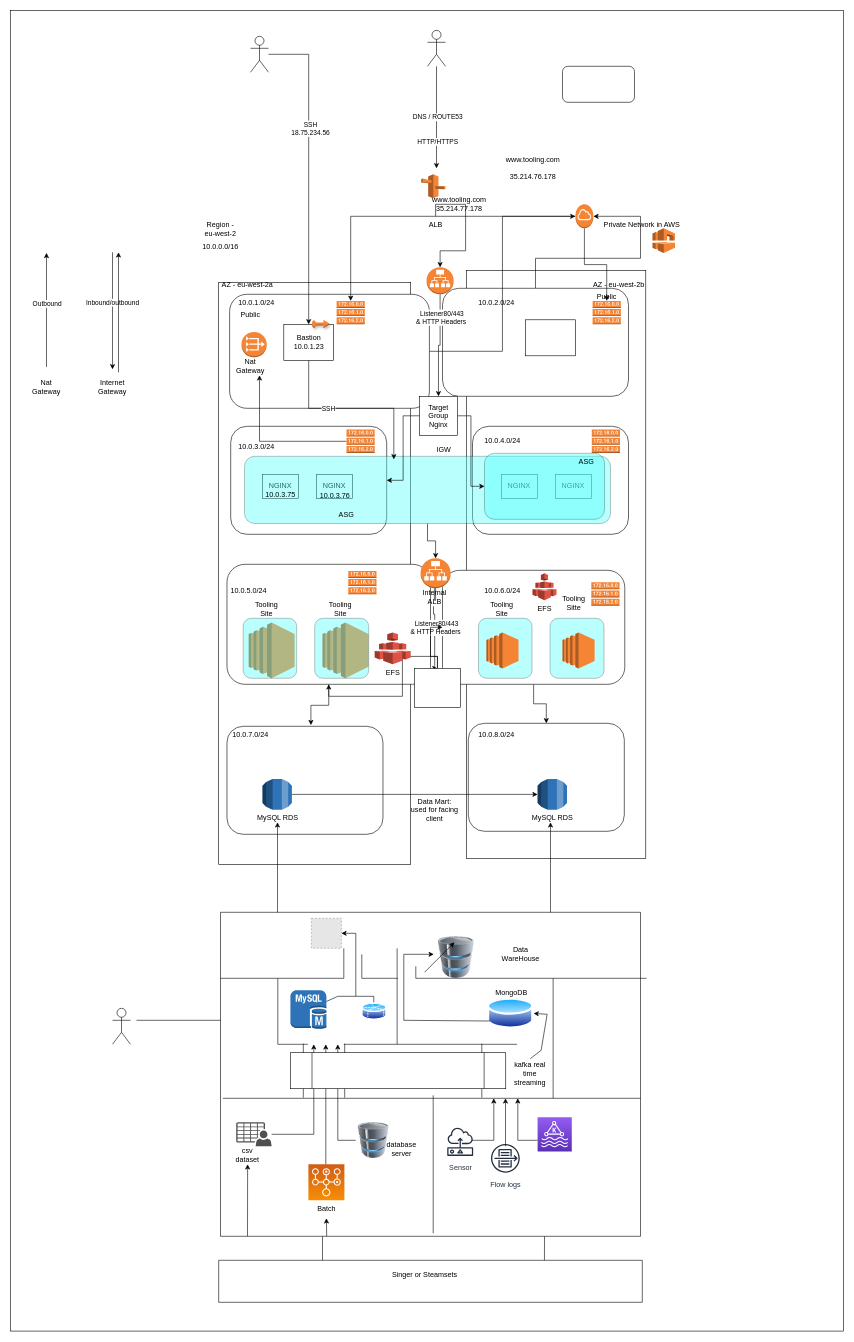
Some shapes in this 854 by 1342 pixel diagram are drawn without their labels. Grey dashed boxes stand in for pictures. The centre of each missing label's shape, as x and y in pixels:
"Bastion" goes at pixel 550 337.
"Customer" goes at pixel 436 48.
"Data Engineer" goes at pixel 121 1026.
"DevOps" goes at pixel 259 54.
"ETL TOOLS" goes at pixel 398 1070.
"nginx.org/packages" goes at pixel 598 84.
"Target Group [Sainsbury or tooling]" goes at pixel 437 687.
